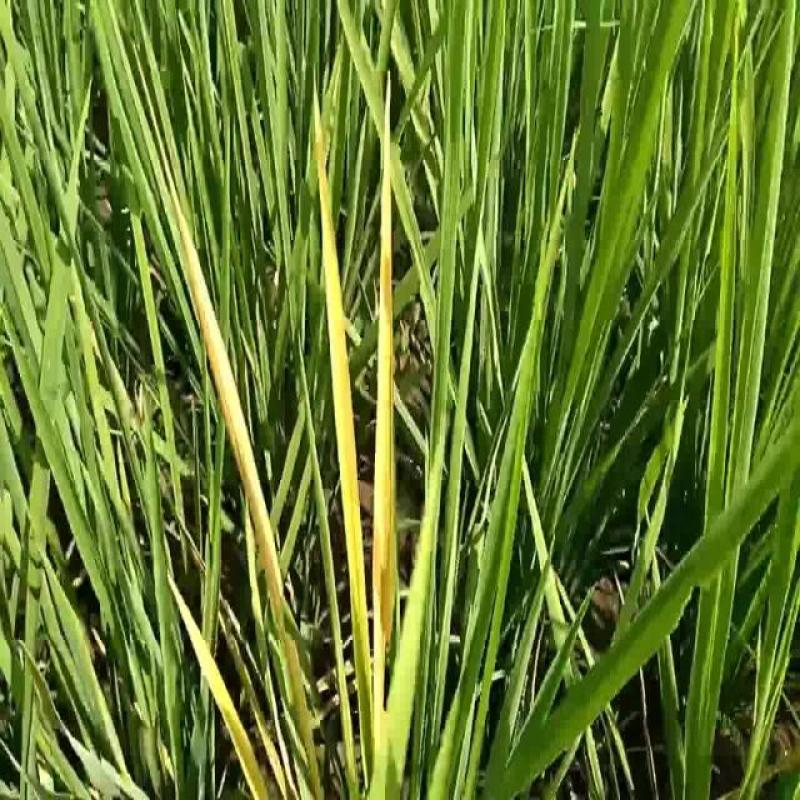Rice Tungro: (132, 56, 300, 672), (306, 65, 372, 684), (160, 560, 259, 800), (369, 71, 401, 718)
